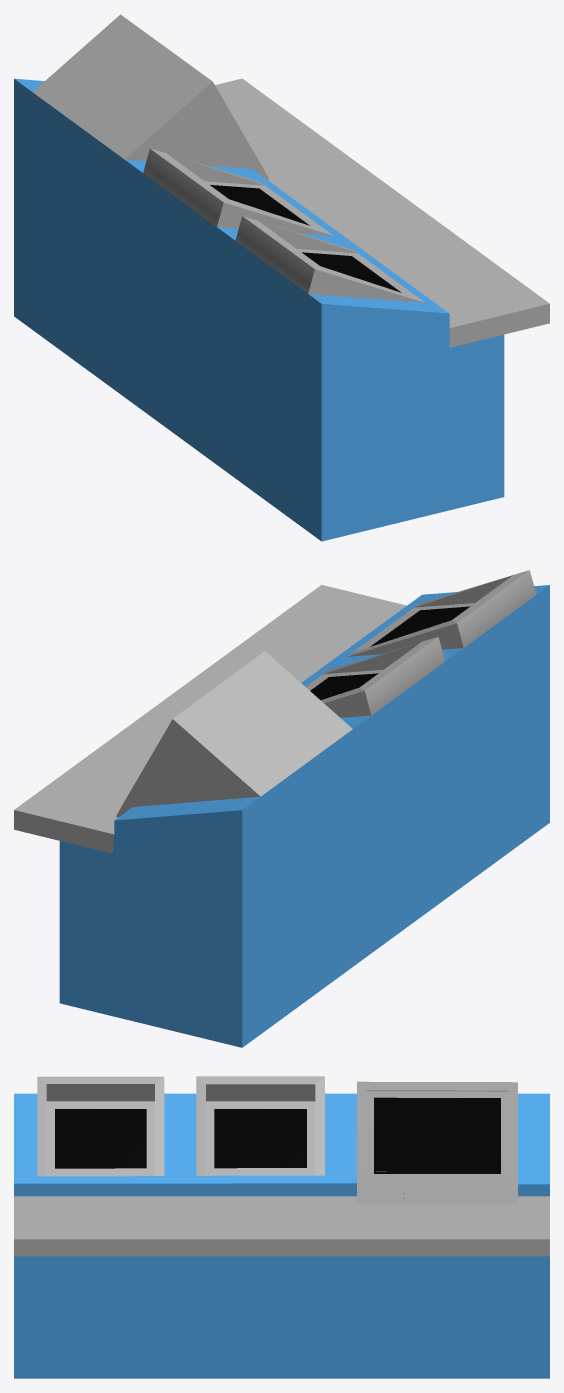
Rendered from C_ComputerConsole.fbx.
3 renders of one model, top to bottom at view 1: azimuth 30°, elevation 25°; view 2: azimuth 150°, elevation 25°; view 3: azimuth 270°, elevation 25°, orthographic. The views are drawn at different scales.
Parts seen in each view (by area): view 1: C_ComputerConsole; view 2: C_ComputerConsole; view 3: C_ComputerConsole.
Part boxes in pixels (x1,y1,x2,y2): C_ComputerConsole: [14, 14, 549, 541]; C_ComputerConsole: [14, 570, 549, 1047]; C_ComputerConsole: [14, 1076, 549, 1378].
Bounding box in the file's own units: 4.54 × 5.59 × 10.59.
Materials: 3 (3 with a texture image).
